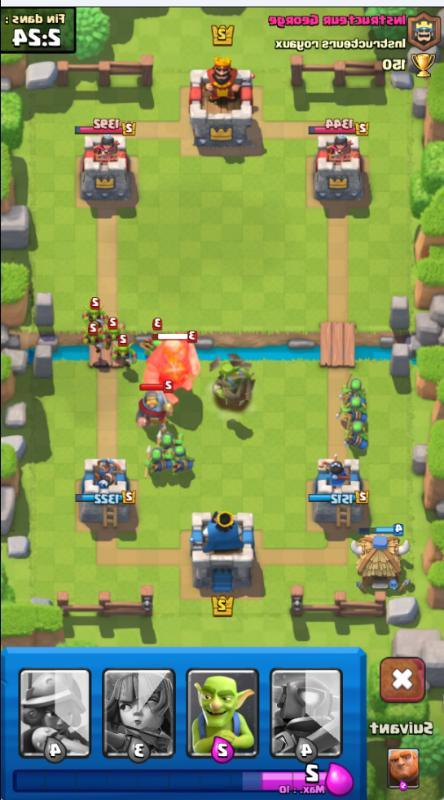enemy_giant: (138, 327, 203, 396)
enemy_goblins: (80, 319, 108, 355), (79, 296, 110, 328), (108, 339, 138, 366)
enemy_knight: (131, 385, 178, 427)
enemy_spear_goblins: (141, 319, 167, 351)
player_goblin_hut: (346, 527, 415, 596)
player_spear_goblins: (169, 441, 196, 476), (143, 443, 172, 475), (339, 373, 368, 402), (342, 421, 370, 448), (153, 422, 181, 445), (335, 400, 365, 421)
